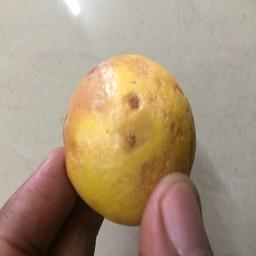Bad_lime: (63, 53, 201, 221)
